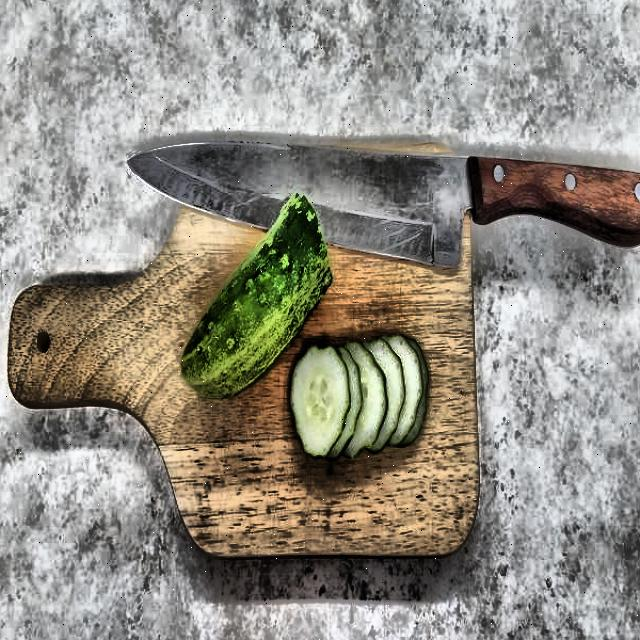knife: (128, 116, 640, 282)
